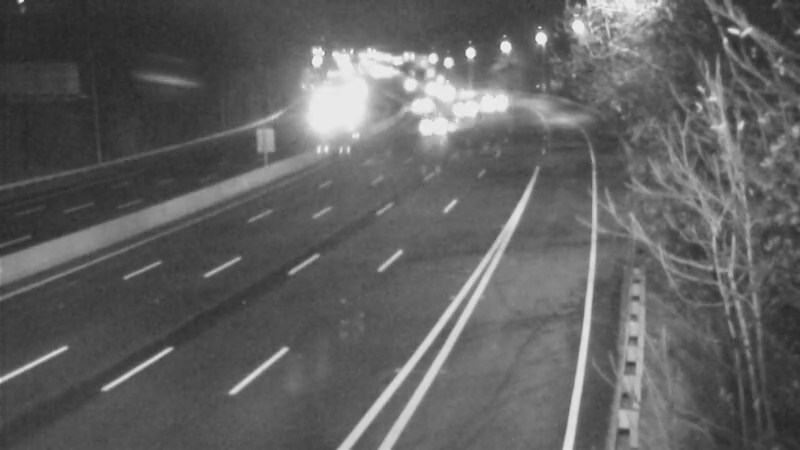vehicle: (396, 81, 446, 131), (462, 80, 512, 130), (433, 86, 483, 136), (414, 98, 464, 148)
